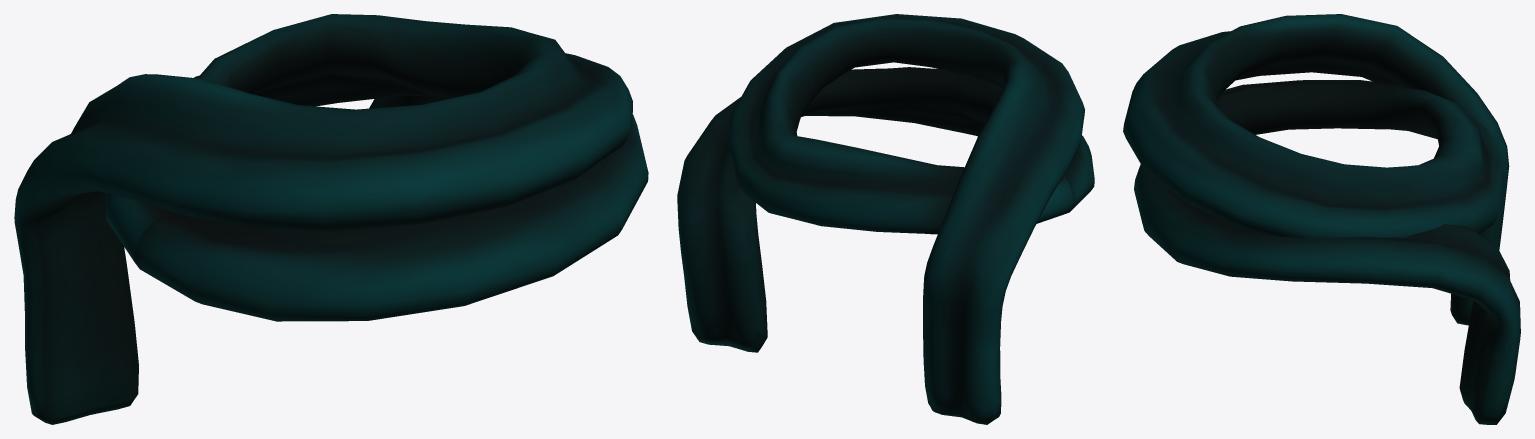
The picture shows the model from 3 angles, left to right: view 1: azimuth 30°, elevation 25°; view 2: azimuth 150°, elevation 25°; view 3: azimuth 270°, elevation 25°; orthographic projection. The views are drawn at different scales.
Parts seen in each view (by area): view 1: Mesh; view 2: Mesh; view 3: Mesh.
Part boxes in pixels (x1,y1,x2,y2): Mesh: [14, 14, 648, 424]; Mesh: [677, 14, 1094, 424]; Mesh: [1123, 14, 1520, 424].
Bounding box in the file's own units: 1.93 × 1.45 × 1.7.
